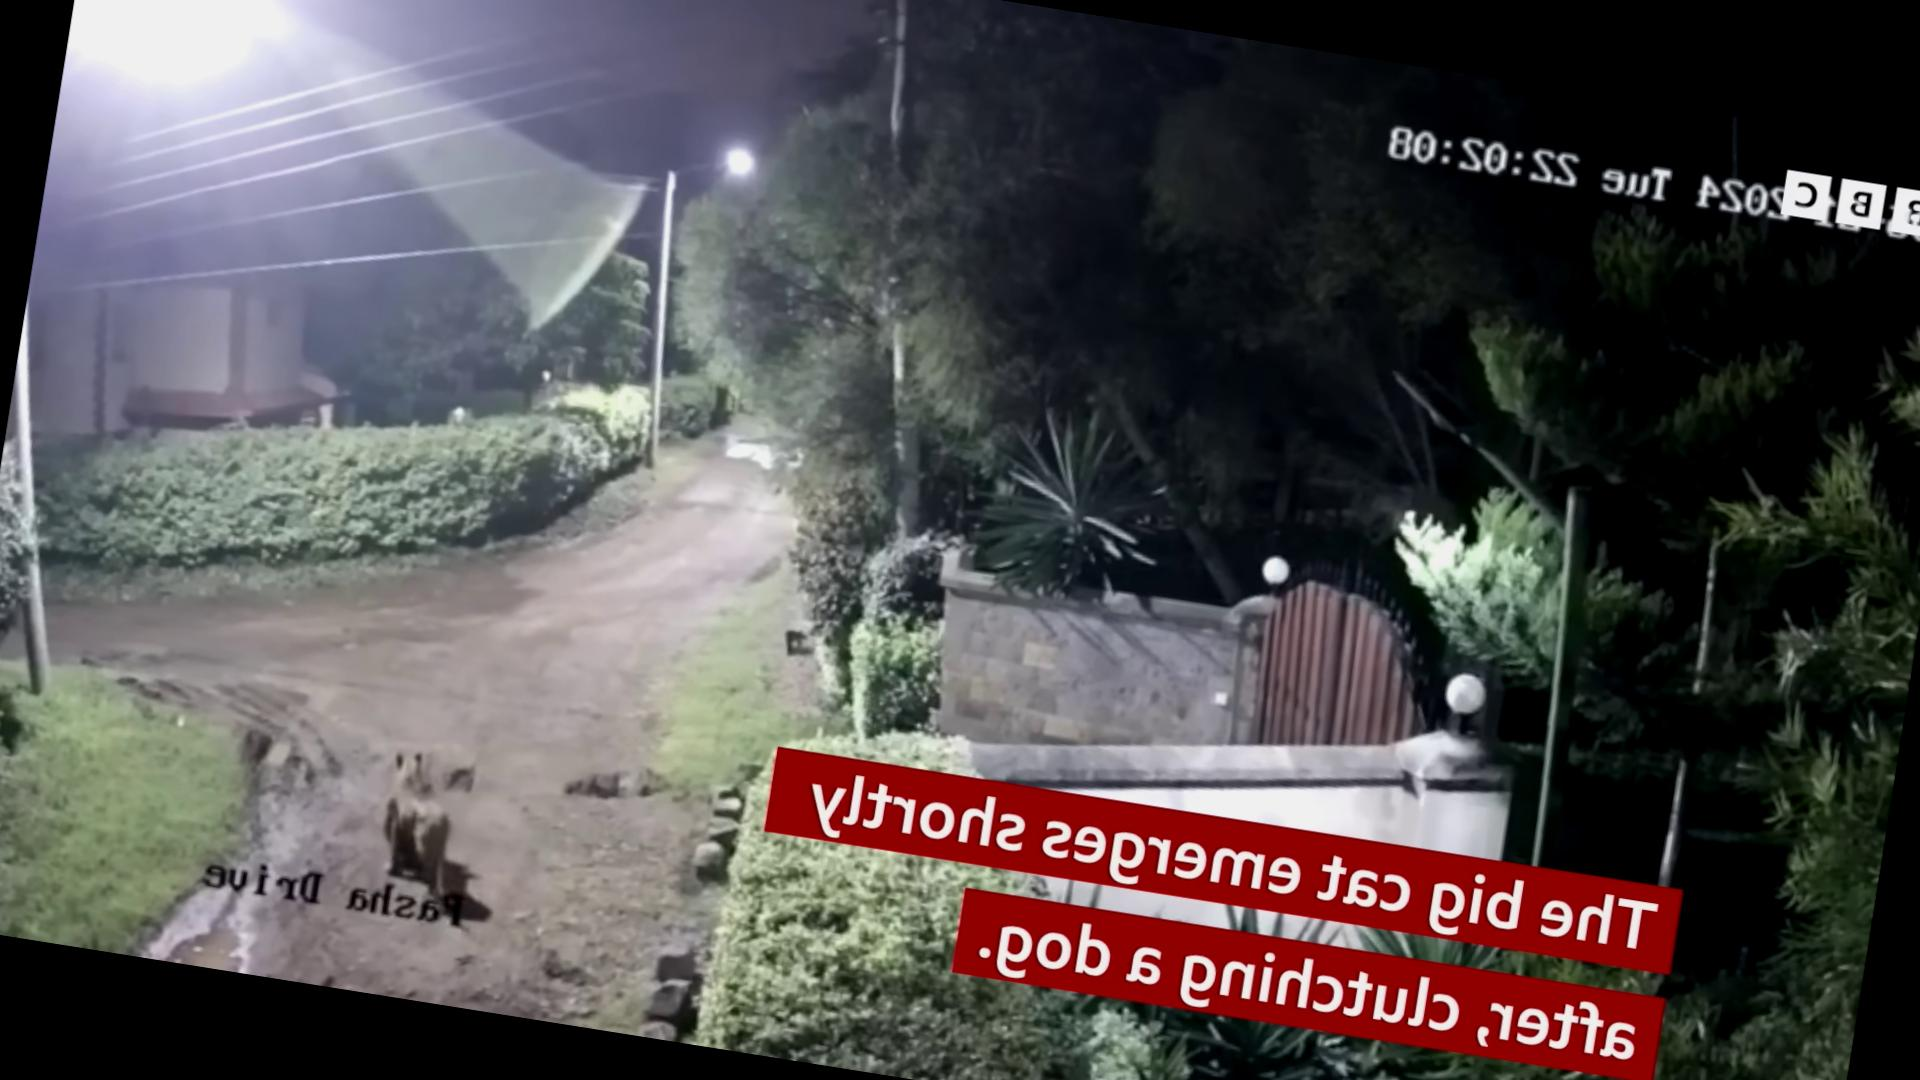lions: (238, 702, 560, 956)
